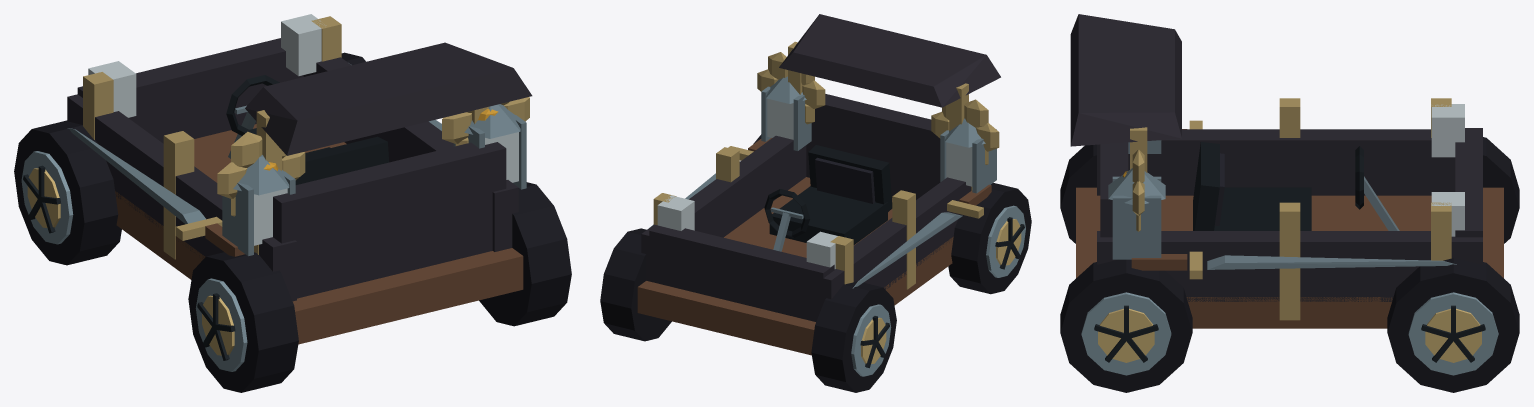
Rendered from kart.glb.
3 views of the same model, side by side, from view 1: azimuth 30°, elevation 25°; view 2: azimuth 150°, elevation 25°; view 3: azimuth 270°, elevation 25° (orthographic). The views are drawn at different scales.
Visible parts, largest first — view 1: identity-carriage-carriage-timber-coach, wheel-rear-left, wheel-front-left, wheel-rear-right, identity-carriage-motif-lanterns, identity-carriage-motif-flowers, identity-carriage-driver-cockpit, identity-carriage-motif-swords; view 2: identity-carriage-carriage-timber-coach, identity-carriage-driver-cockpit, wheel-front-left, wheel-rear-left, identity-carriage-motif-lanterns, wheel-front-right, identity-carriage-motif-flowers, identity-carriage-motif-swords; view 3: identity-carriage-carriage-timber-coach, wheel-front-right, wheel-rear-right, identity-carriage-driver-cockpit, identity-carriage-motif-lanterns, identity-carriage-motif-swords, wheel-front-left, wheel-rear-left, identity-carriage-motif-flowers.
Boxes of the visible parts, box(x1,y1,x2,y2) form: identity-carriage-carriage-timber-coach: box(67, 14, 532, 344); wheel-rear-left: box(188, 252, 298, 392); wheel-front-left: box(14, 120, 121, 265); wheel-rear-right: box(479, 182, 571, 326); identity-carriage-motif-lanterns: box(222, 104, 526, 256); identity-carriage-motif-flowers: box(217, 97, 529, 216); identity-carriage-driver-cockpit: box(226, 75, 388, 184); identity-carriage-motif-swords: box(67, 63, 441, 256); identity-carriage-carriage-timber-coach: box(637, 14, 1000, 355); identity-carriage-driver-cockpit: box(764, 145, 892, 251); wheel-front-left: box(811, 281, 896, 392); wheel-rear-left: box(948, 183, 1031, 294); identity-carriage-motif-lanterns: box(761, 76, 996, 193); wheel-front-right: box(600, 228, 671, 341); identity-carriage-motif-flowers: box(757, 52, 999, 164); identity-carriage-motif-swords: box(647, 138, 991, 288); identity-carriage-carriage-timber-coach: box(1070, 14, 1503, 328); wheel-front-right: box(1387, 257, 1519, 392); wheel-rear-right: box(1060, 259, 1192, 392); identity-carriage-driver-cockpit: box(1193, 142, 1399, 230); identity-carriage-motif-lanterns: box(1108, 140, 1165, 259); identity-carriage-motif-swords: box(1131, 120, 1456, 279); wheel-front-left: box(1483, 137, 1519, 243); wheel-rear-left: box(1060, 144, 1096, 243); identity-carriage-motif-flowers: box(1122, 149, 1144, 231).
Bounding box in the file's own units: 2.07 × 1.63 × 2.64.
